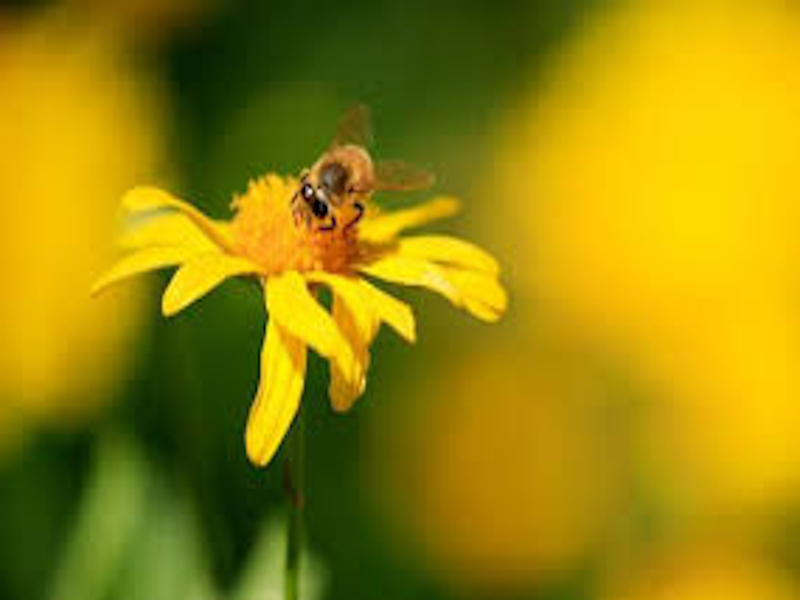abeja: (281, 96, 431, 263)
